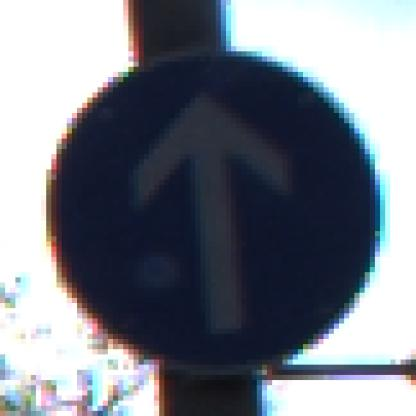AheadOnly: (42, 42, 381, 381)
